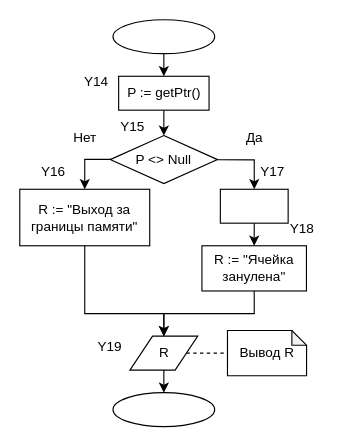
Some shapes in this 356 by 446 pixel diagram are drawn without their labels. The shapes that lost their labels are listed below. From the top down, each one's centre as x and y in pixels, then its label:
point 163,36: Начало
point 253,205: *P = 0
point 163,409: Конец
